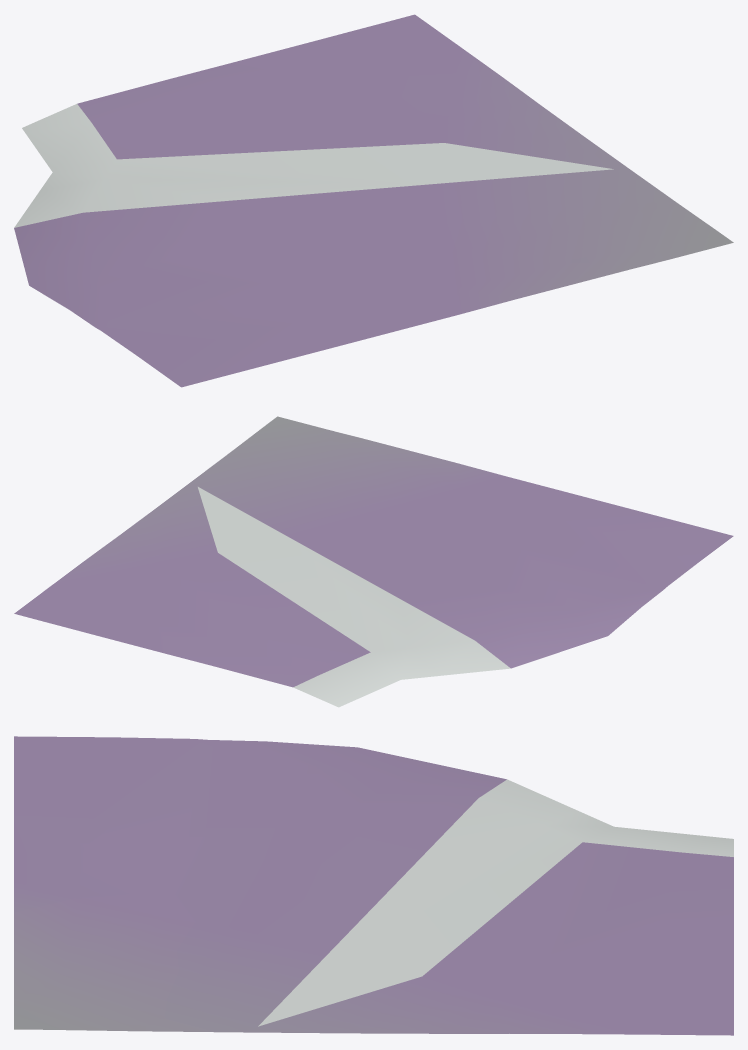
3 renders of one model, top to bottom at view 1: azimuth 30°, elevation 25°; view 2: azimuth 150°, elevation 25°; view 3: azimuth 270°, elevation 25°, orthographic. The views are drawn at different scales.
Visible parts, largest first — view 1: G:\FFXIV-MapTools\exports\m5f1\bg\ex4\02_mid_m5\fld\m5f1\bgp (×2); view 2: G:\FFXIV-MapTools\exports\m5f1\bg\ex4\02_mid_m5\fld\m5f1\bgp (×2); view 3: G:\FFXIV-MapTools\exports\m5f1\bg\ex4\02_mid_m5\fld\m5f1\bgp (×2).
Boxes of the visible parts, x1,y1,x2,y2 form: G:\FFXIV-MapTools\exports\m5f1\bg\ex4\02_mid_m5\fld\m5f1\bgp (×2): (14,14,733,387); G:\FFXIV-MapTools\exports\m5f1\bg\ex4\02_mid_m5\fld\m5f1\bgp (×2): (14,416,733,707); G:\FFXIV-MapTools\exports\m5f1\bg\ex4\02_mid_m5\fld\m5f1\bgp (×2): (14,736,733,1035).
Size of the model in its own units: 128 by 5.08 by 128.
